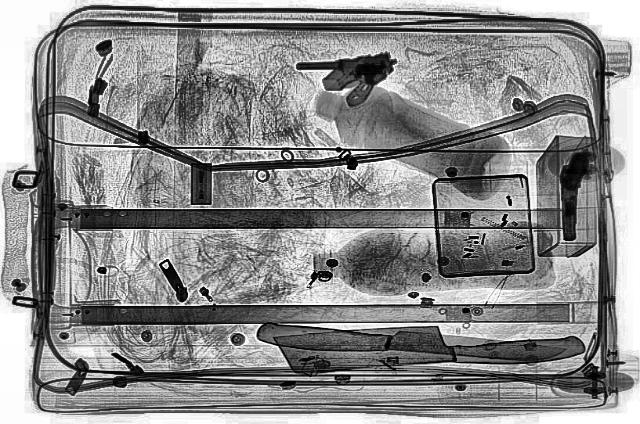Gun: (295, 49, 395, 106), (556, 151, 596, 239)
Knife: (272, 316, 586, 374), (255, 322, 568, 364)
